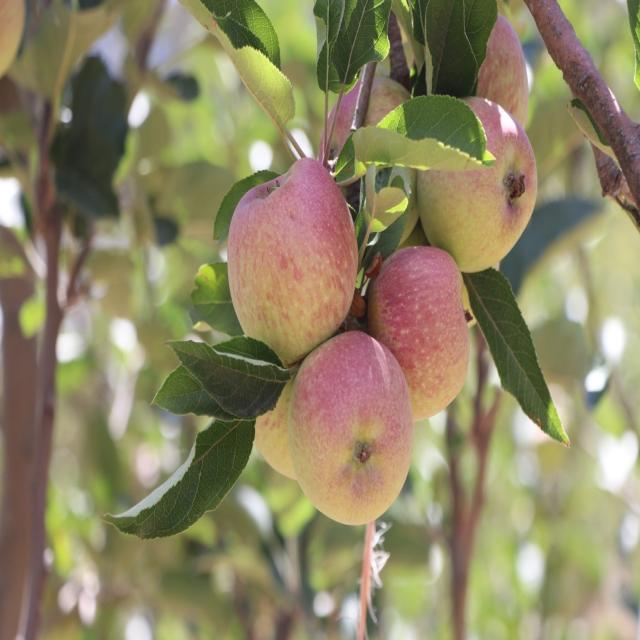arepa: (216, 153, 364, 358)
